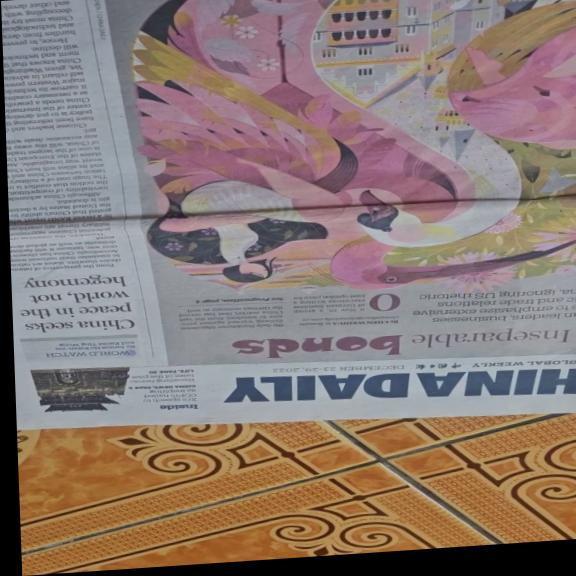Kertas: (5, 0, 576, 427)
